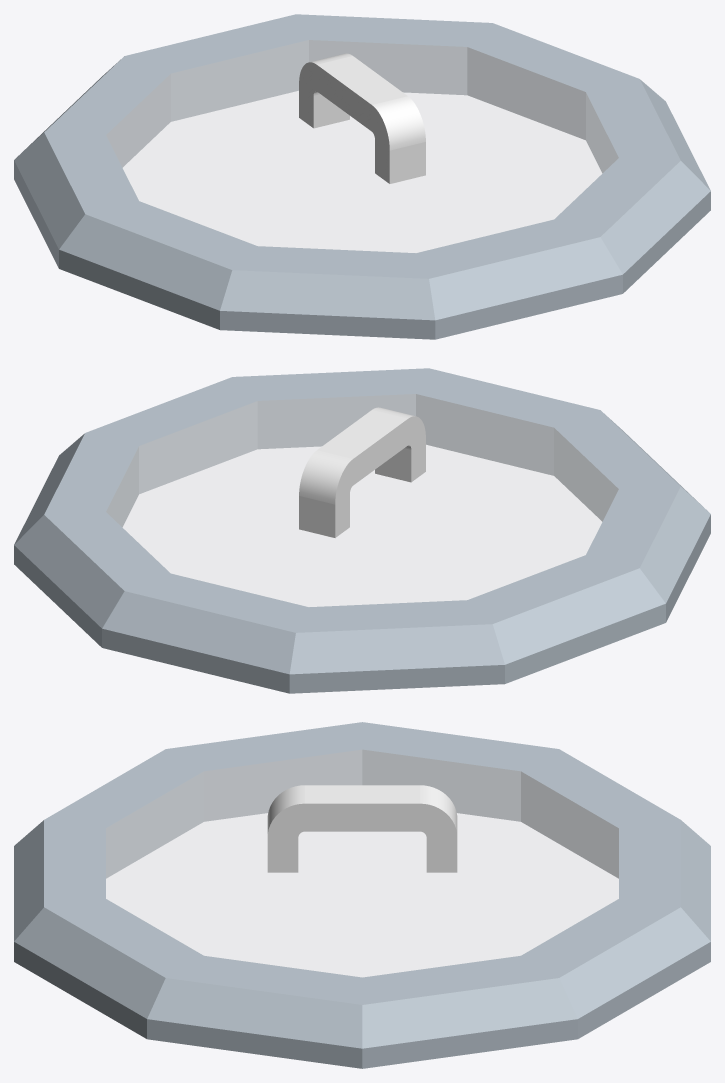
Rendered from potStewLid.glb.
3 views of the same model, one above another, from view 1: azimuth 30°, elevation 25°; view 2: azimuth 150°, elevation 25°; view 3: azimuth 270°, elevation 25° (orthographic). The views are drawn at different scales.
Parts seen in each view (by area): view 1: potStewLid; view 2: potStewLid; view 3: potStewLid.
Boxes of the visible parts, x1,y1,x2,y2 form: potStewLid: (14,14,710,339); potStewLid: (14,368,710,693); potStewLid: (14,722,710,1068).
Bounding box in the file's own units: 0.6574 × 0.1184 × 0.6253.
